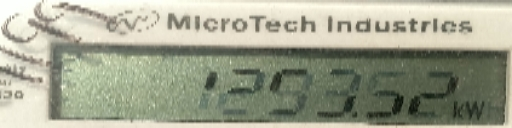1: (196, 67, 217, 115)
2: (405, 63, 456, 122), (217, 64, 264, 118)
3: (319, 63, 357, 120)
6: (366, 67, 407, 119)
9: (264, 62, 313, 123)
d: (350, 109, 361, 118)
